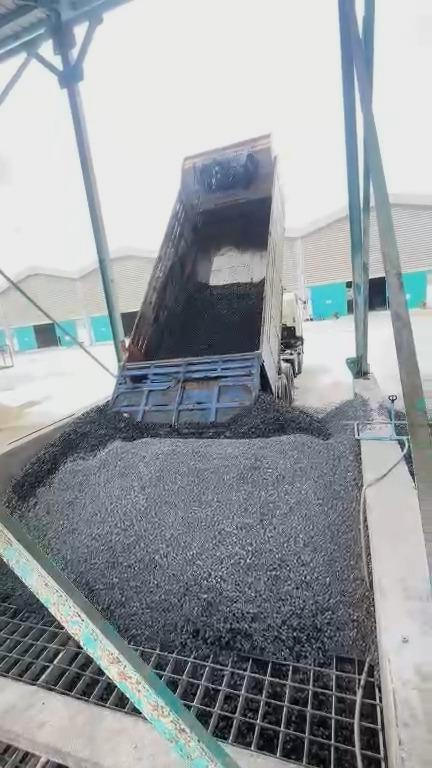gravel: (6, 392, 374, 661), (155, 283, 261, 359), (1, 563, 46, 615)
sand: (1, 400, 73, 451)
